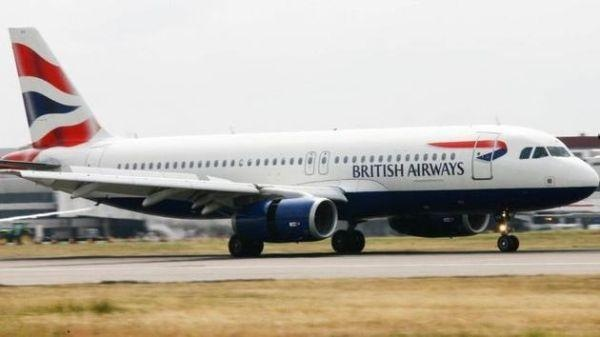airplane: (3, 24, 600, 255)
